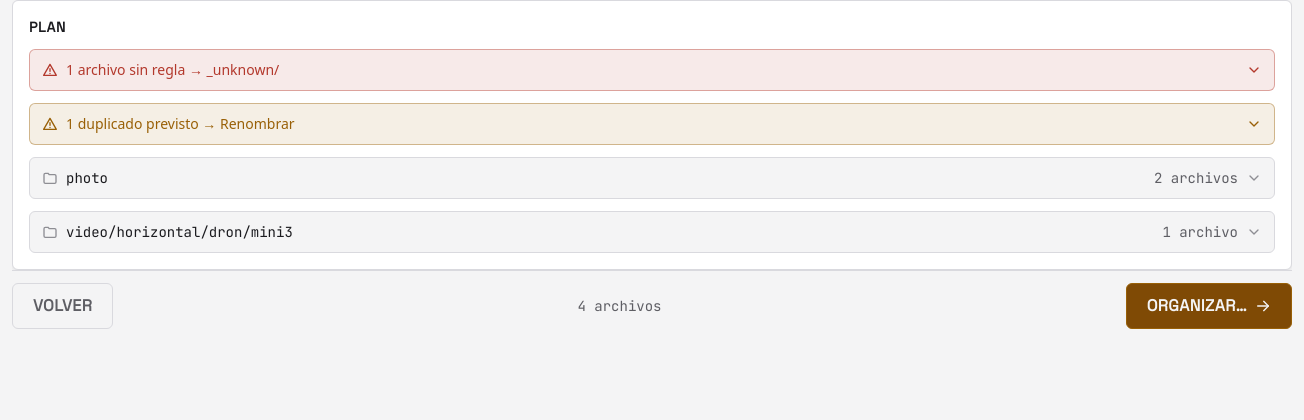
Test: PlanPreview › pins the warnings first: no-rule → _unknown/ and predicted duplicates → current strategy
// expandible a la lista de archivos (texto plano)
Click the button "1 archivo sin regla → _unknown/" at (173, 70), box top-left (30, 50), bottom-right (1274, 90)
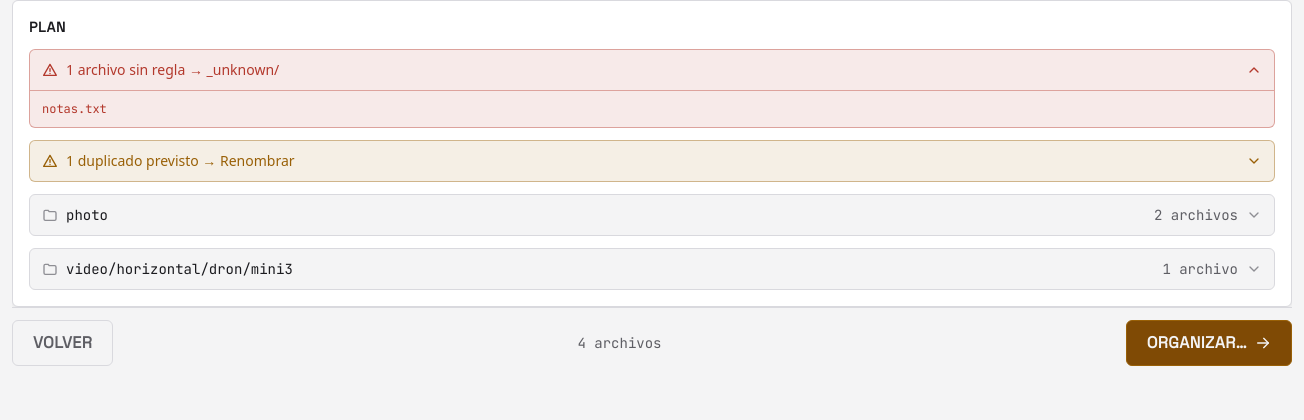
Result: the list with test id "plan-warning-unknown-list" reads "notas.txt" at top-left (42, 101), bottom-right (107, 117)
Click the button "1 duplicado previsto → Renombrar" at (180, 160), box top-left (30, 141), bottom-right (1274, 181)
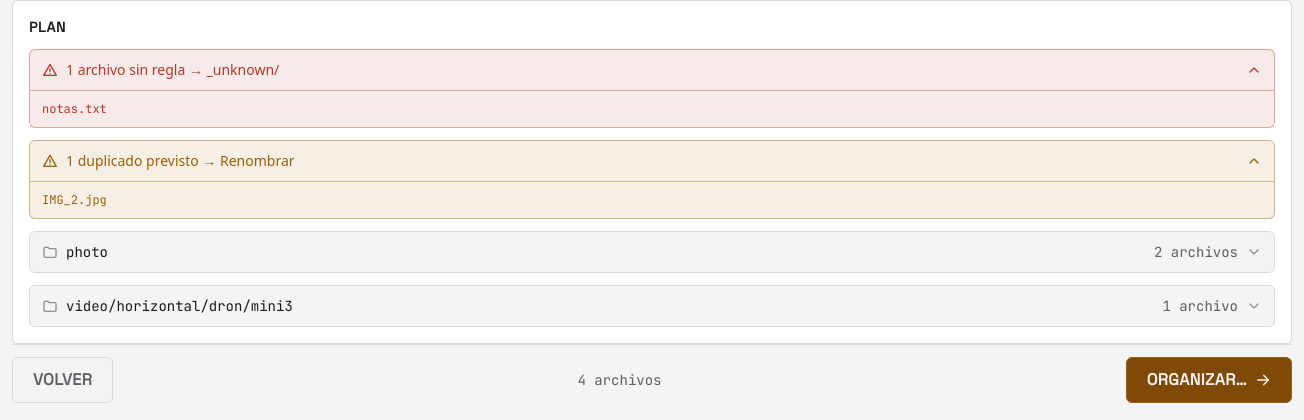
Result: the list with test id "plan-warning-collisions-list" reads "IMG_2.jpg" at top-left (42, 192), bottom-right (107, 208)
